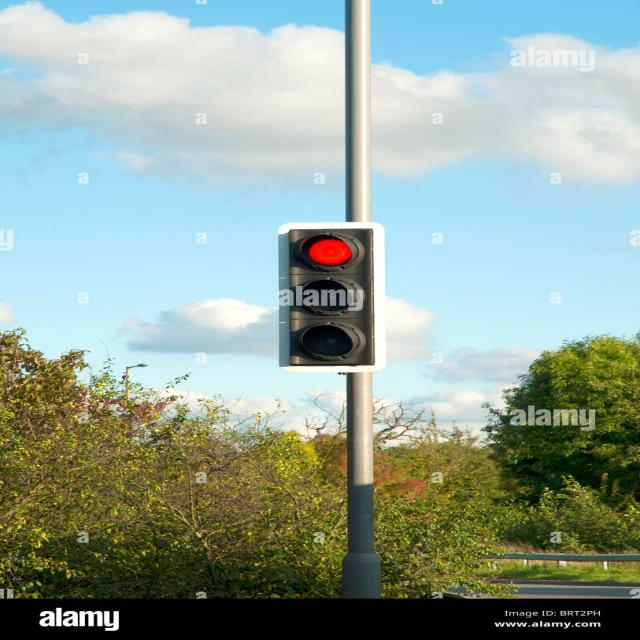red: (274, 224, 379, 275)
